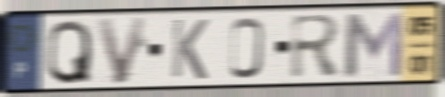0: (228, 16, 266, 81)
K: (168, 17, 211, 82)
M: (341, 10, 406, 79)
Q: (44, 17, 93, 87)
R: (288, 12, 344, 81)
V: (94, 14, 151, 87)
